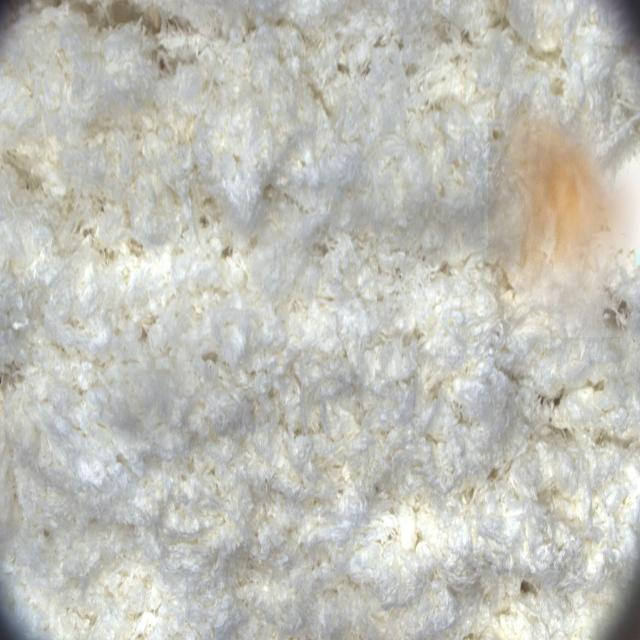dust: (488, 93, 640, 337)
